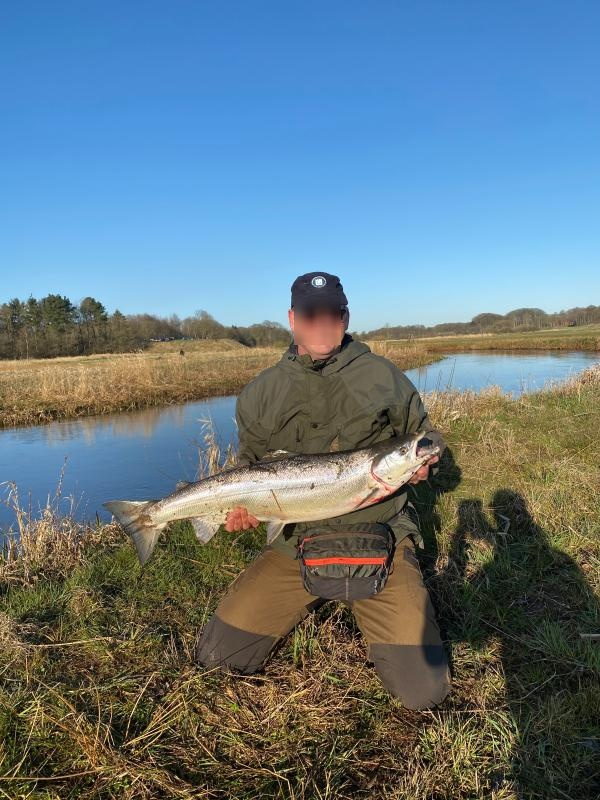Fin: (103, 498, 166, 565), (375, 430, 443, 486)
Salmon: (99, 430, 442, 565)
